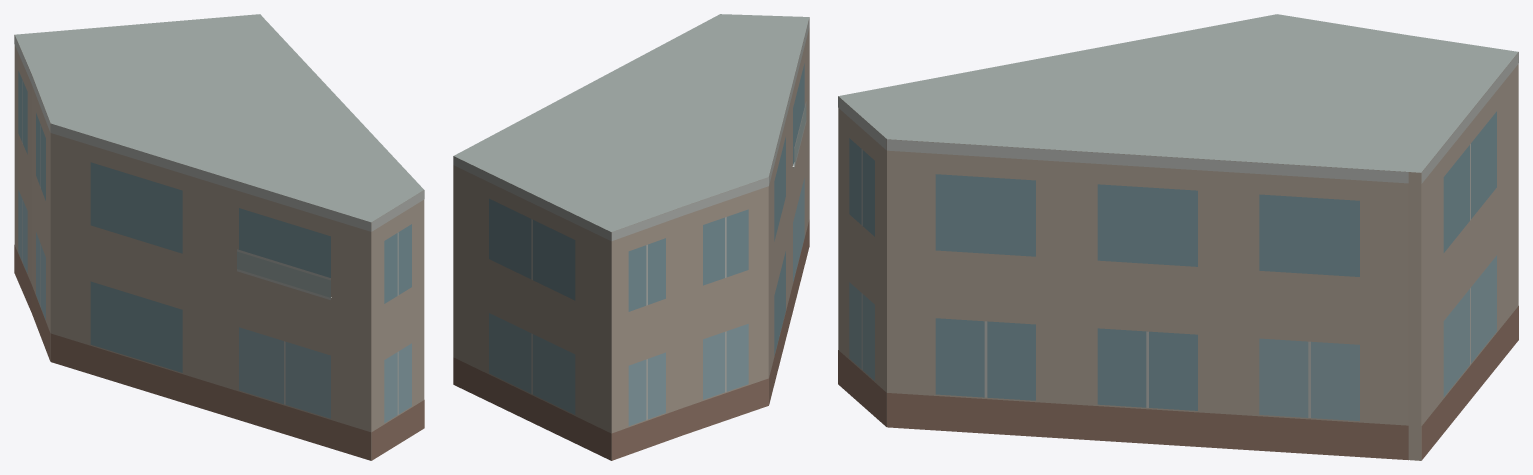
Rendered from survey-upis-32787985.glb.
The picture shows the model from 3 angles, left to right: view 1: azimuth 30°, elevation 25°; view 2: azimuth 150°, elevation 25°; view 3: azimuth 270°, elevation 25°; orthographic projection. The views are drawn at different scales.
Visible parts, largest first — view 1: survey-upis-32787985.tmp; view 2: survey-upis-32787985.tmp; view 3: survey-upis-32787985.tmp.
Part boxes in pixels (x1,y1,x2,y2): survey-upis-32787985.tmp: (14, 14, 424, 460); survey-upis-32787985.tmp: (453, 14, 809, 460); survey-upis-32787985.tmp: (838, 14, 1518, 460).
Bounding box in the file's own units: 7.22 × 6.1 × 13.07.
